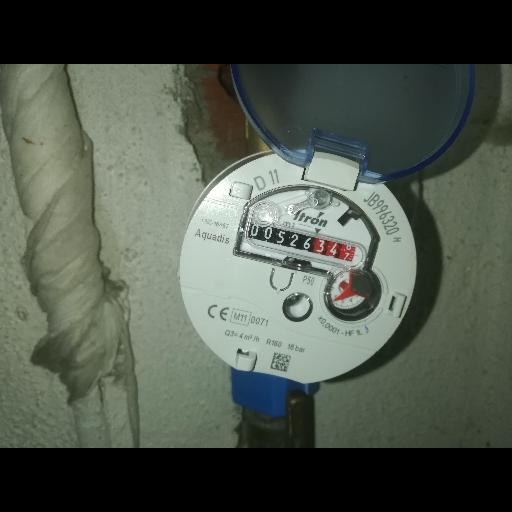0: (260, 225, 277, 244), (248, 222, 263, 241)
2: (286, 231, 303, 249)
3: (312, 238, 329, 256)
4: (325, 241, 341, 259)
5: (273, 228, 290, 247)
6: (299, 234, 316, 252)
7: (338, 244, 357, 263)
border_water_meter_number: (245, 220, 366, 271)
